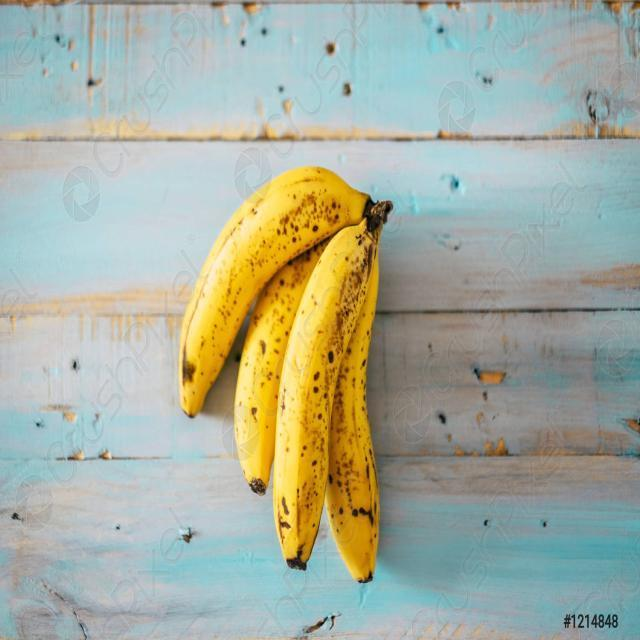Banana: (176, 161, 396, 595)
